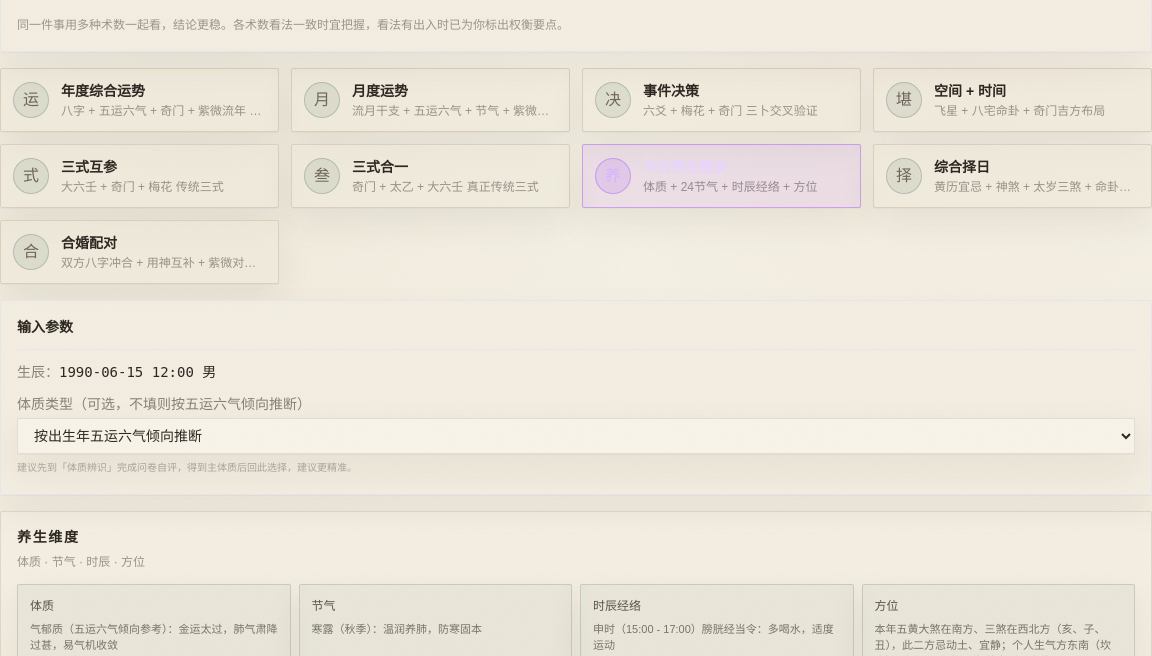
Scenario: ComboWorkspace presentation 边界 › 婚配异步计算抛错时也呈现固定安全文案
Click the button "合 合婚配对 双方八字冲合 + 用神互补 + 紫微对照 + 姓名匹配 + 风水吉日" at point(31, 252), box [0,220,279,284]
(page scrolled)
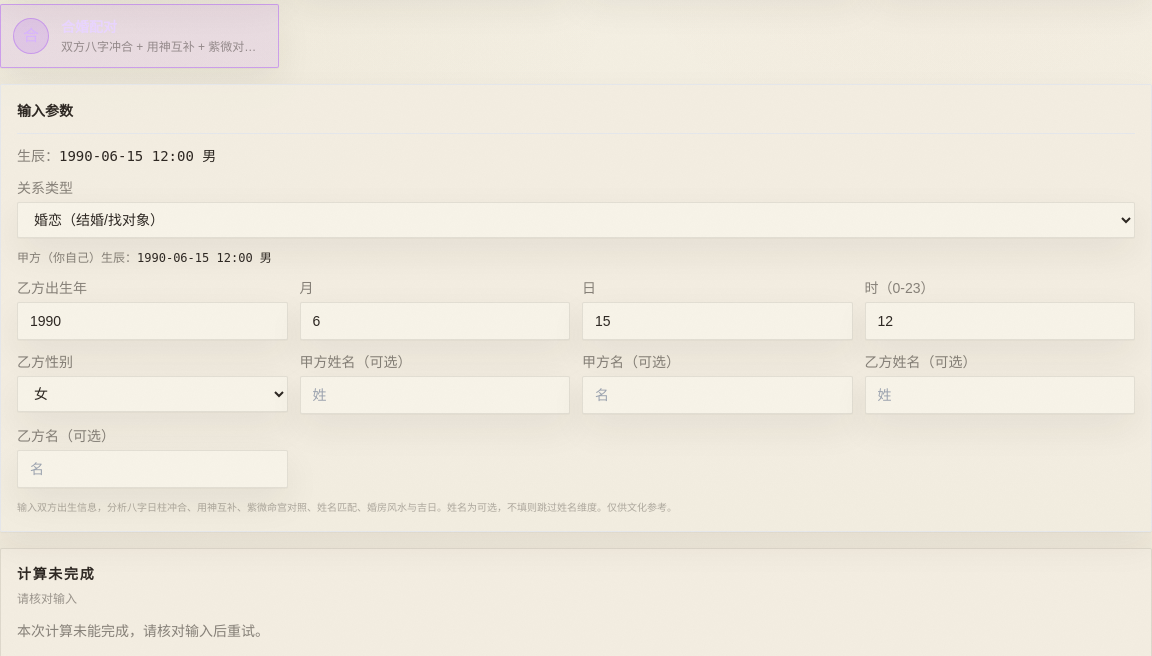
Now the text "本次计算未能完成，请核对输入后重试。" is shown, box [17,623,269,639]
